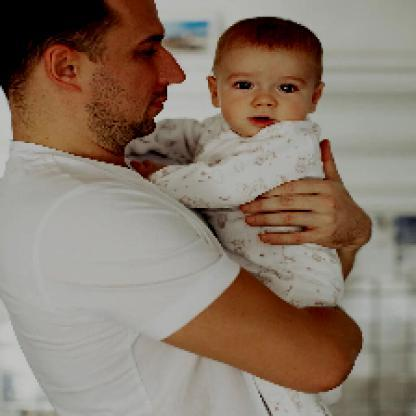child: (159, 16, 347, 416)
